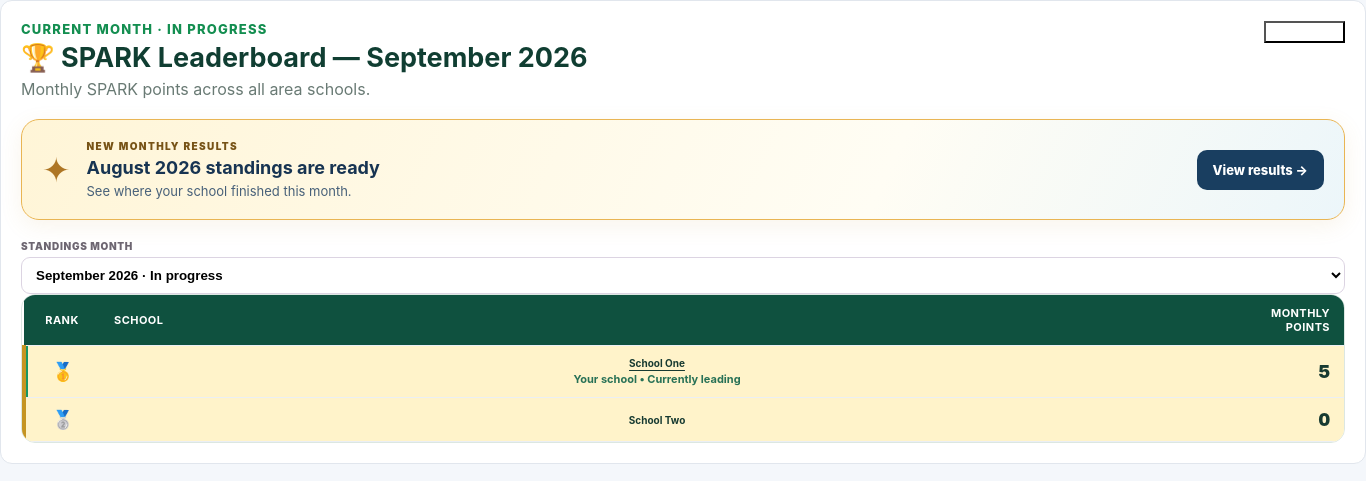
Test: highlights new finished-month results, preserves standings, and never displays side-quest rewards
Click the button "View results →". click: (1260, 170)
box: [1196,150,1324,190]
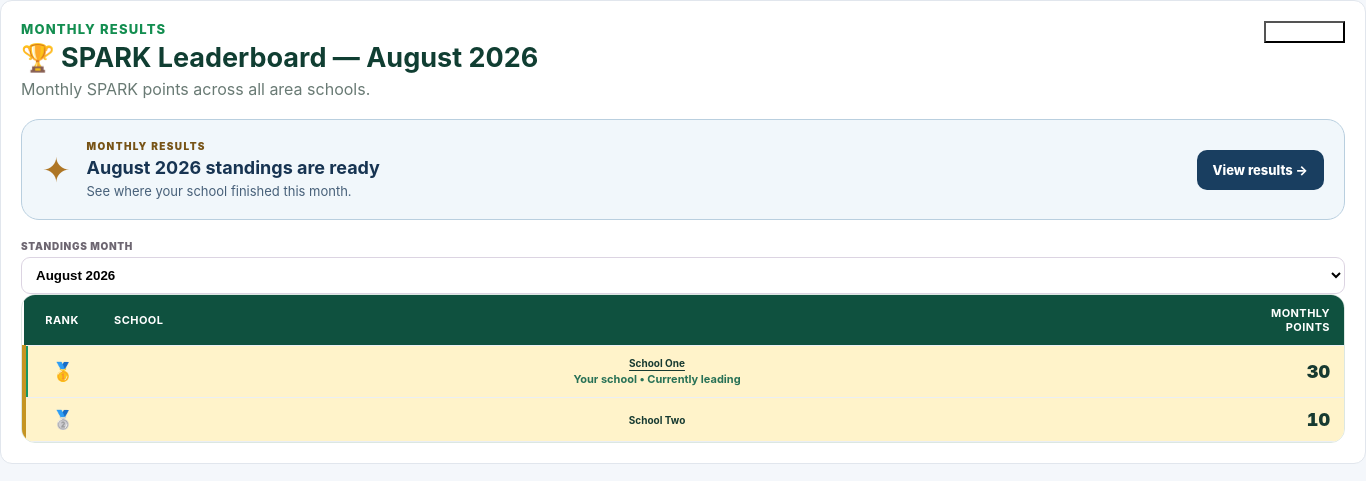
Expected: the row "🥇 School One Your school • Currently leading 30" is shown, [24,346,1344,398]
Expected: the dropdown labelled "Standings month" shows "August 2026", [21,257,1345,294]
Expected: the text "NEW MONTHLY RESULTS" is gone
